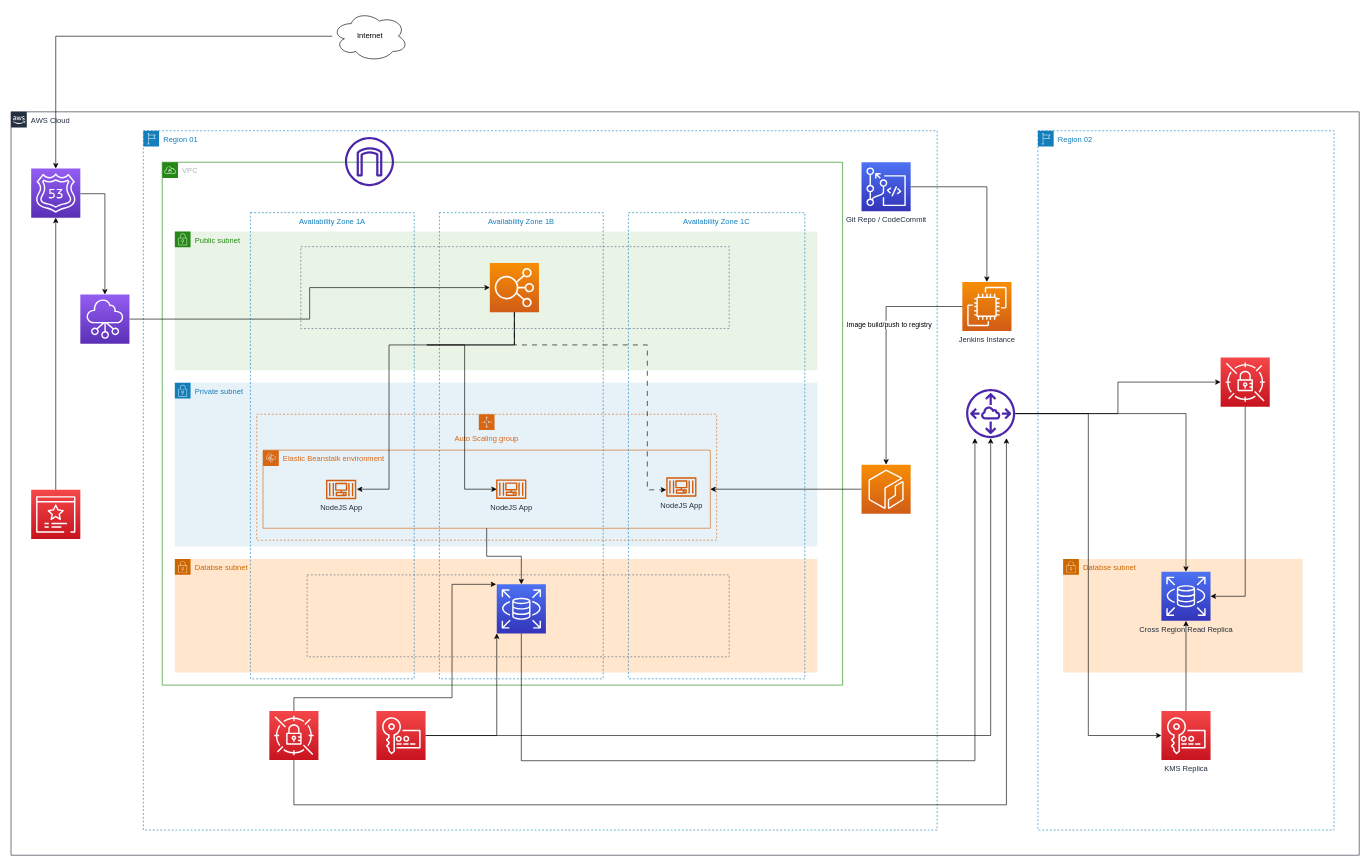
This 1370x866 diagram has some shape labels left out. The shapes that lost their labels are listed below. From the top down, each one's centre as x and y in pixels, then its label:
the point at 369,161: Internet Gateway Outbound Traffic
the point at 55,193: Route 53 DNS
the point at 514,287: Load Balancer
the point at 104,319: Cloud Front
the point at 1245,382: Secrets Manager Replica
the point at 990,413: Cross Region Replication
the point at 886,489: Elastic Conatiner Registry
the point at 55,514: Certificate Manger
the point at 521,608: RDS Postgres Primary
the point at 293,735: Secrets Manager
the point at 401,735: KMS
